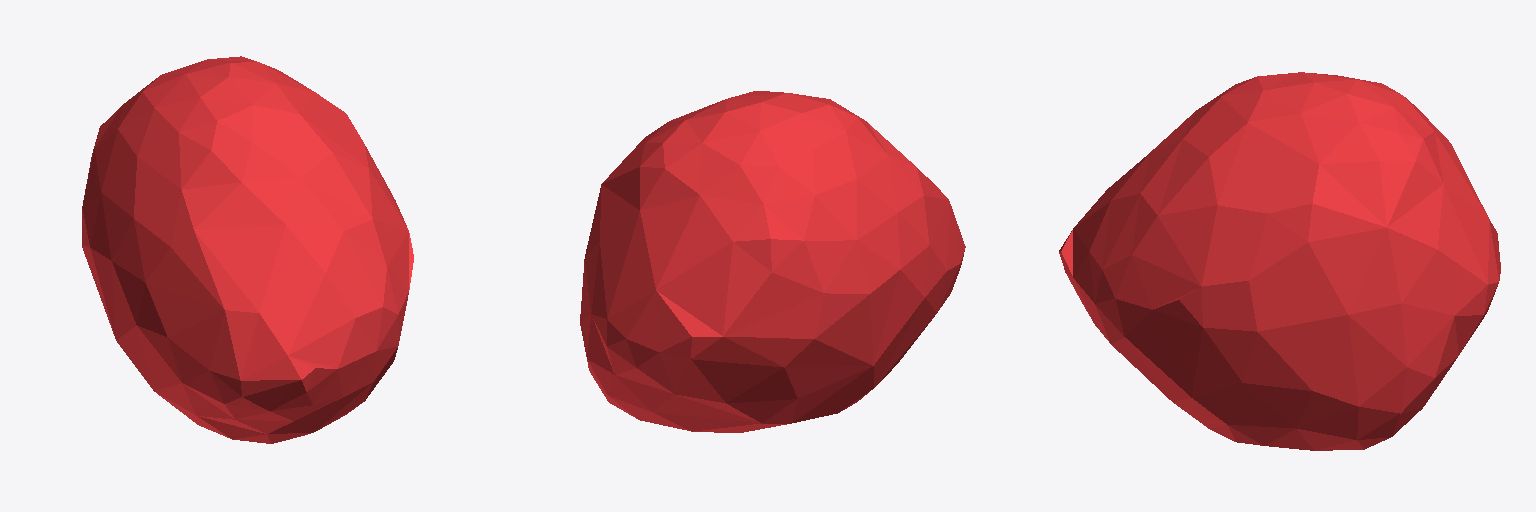
Rendered from Model_479_RH__Facial_nucleus_(7N).obj.
3 renders of one model, left to right at view 1: azimuth 30°, elevation 25°; view 2: azimuth 150°, elevation 25°; view 3: azimuth 270°, elevation 25°, orthographic.
Size of the model in its own units: 0.4914 by 0.572 by 0.6799.